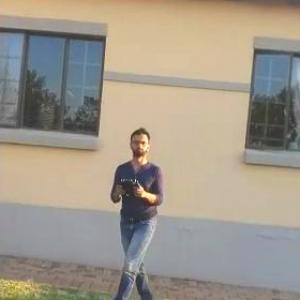follow: (94, 119, 162, 299)
